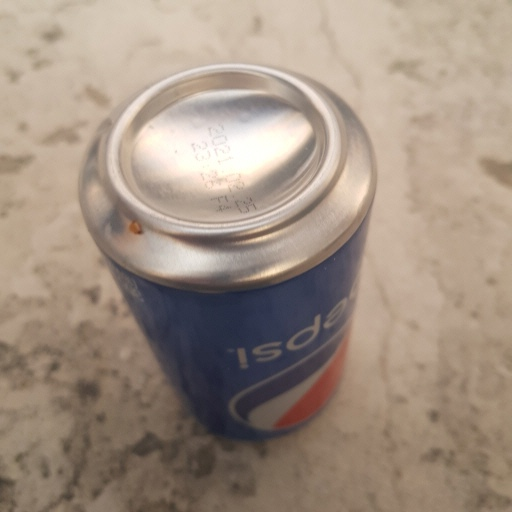Metal_0: (76, 64, 380, 441)
